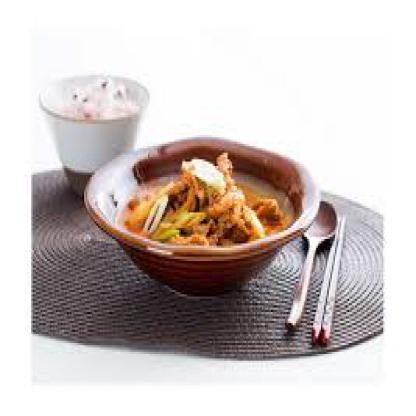jeyuk bokkeum: (109, 153, 293, 263)
rice ball: (45, 73, 147, 131)
